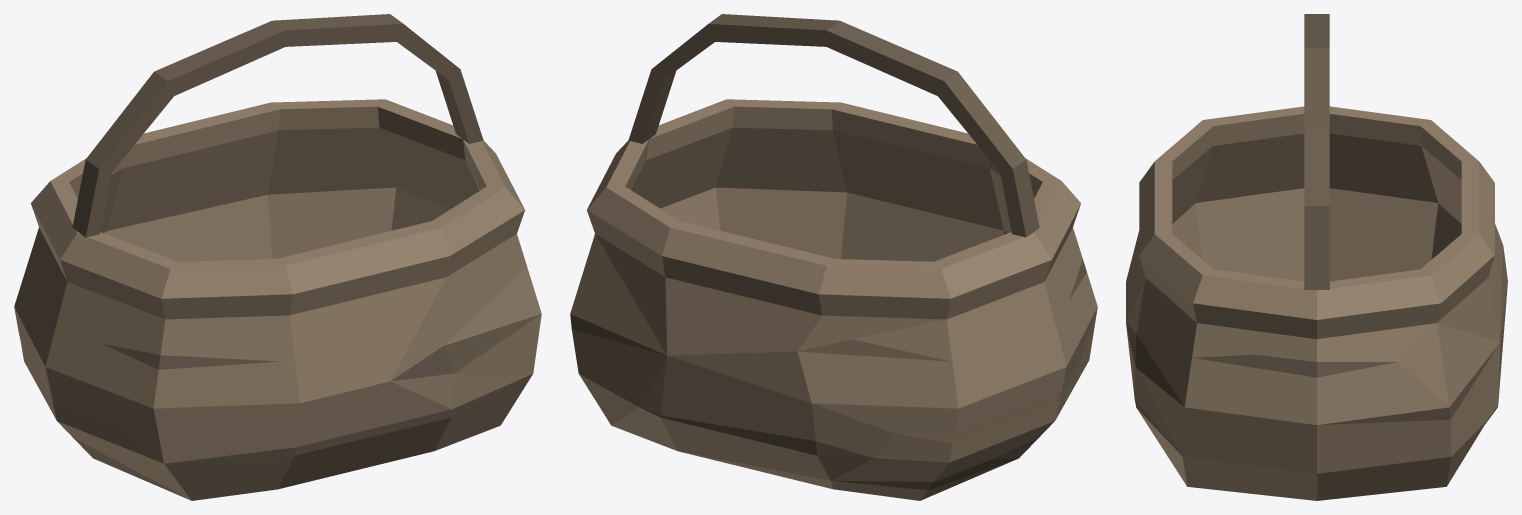
File: kingdom_SM_Prop_Basket_02.gltf
3 renders of one model, left to right at view 1: azimuth 30°, elevation 25°; view 2: azimuth 150°, elevation 25°; view 3: azimuth 270°, elevation 25°, orthographic. The views are drawn at different scales.
Parts seen in each view (by area): view 1: SM_Prop_Basket_02; view 2: SM_Prop_Basket_02; view 3: SM_Prop_Basket_02.
Boxes of the visible parts, box(x1,y1,x2,y2) form: SM_Prop_Basket_02: box(14, 14, 541, 500); SM_Prop_Basket_02: box(570, 14, 1097, 500); SM_Prop_Basket_02: box(1126, 14, 1507, 500).
Bounding box in the file's own units: 0.4375 × 0.3494 × 0.3276.
Materials: 1 (1 with a texture image).
